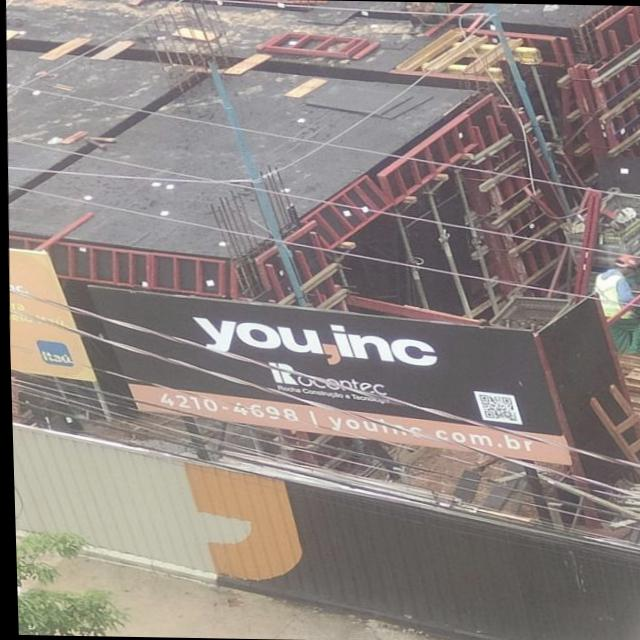qrcode: (477, 396, 515, 423)
